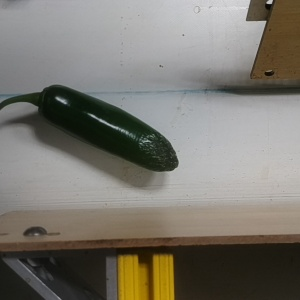Cut Point: (30, 84, 62, 124)
